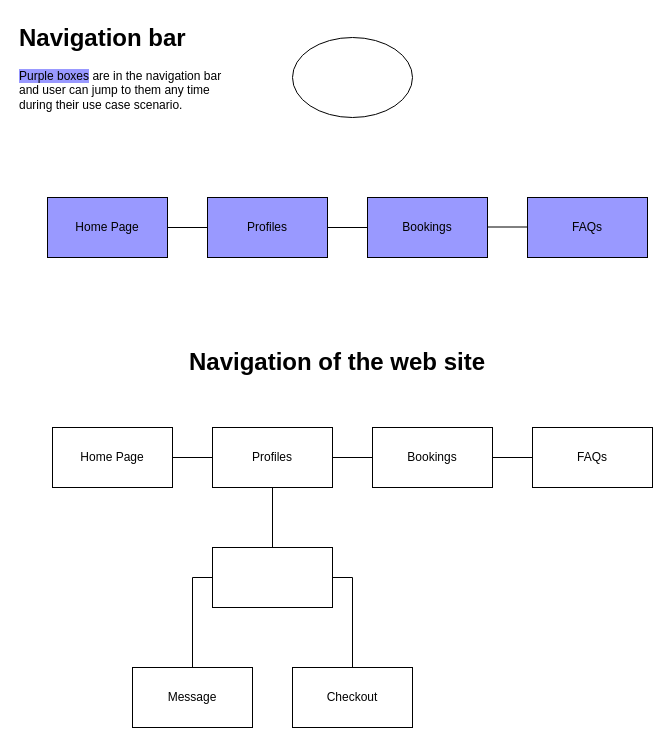
Some shapes in this 670 by 745 pixel diagram are drawn without their labels. The centre of each missing label's shape, as x and y in pixels:
"pawsomesitters.ie" belongs at [352,77].
"Profile" belongs at [272,577].
